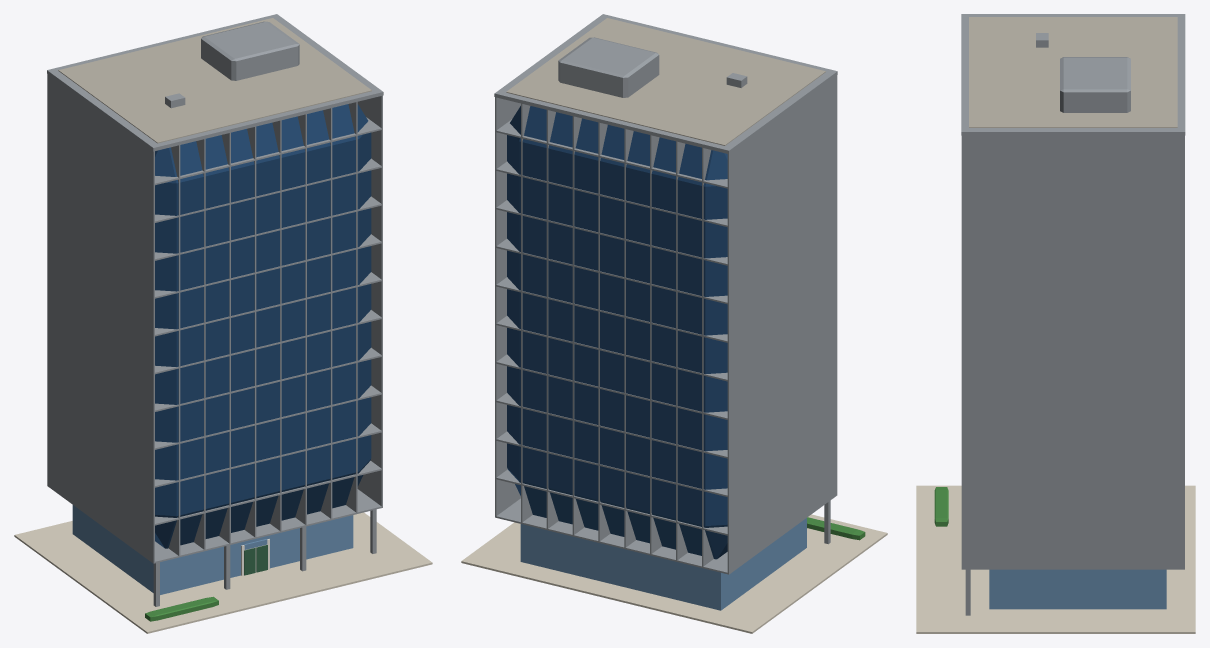
File: office_f12_ribbon_w24.glb
The picture shows the model from 3 angles, left to right: view 1: azimuth 30°, elevation 25°; view 2: azimuth 150°, elevation 25°; view 3: azimuth 270°, elevation 25°; orthographic projection. The views are drawn at different scales.
Visible parts, largest first — view 1: slab, mullv, roofslab, plaza, lobby, mullv.009, roofband, penthouse, mullh, mullv.004, mullv.007, mullv.001 (+16 smaller); view 2: slab, mullv, roofslab, plaza, lobby, mullv.009, roofband, penthouse, mullh, mullv.007, mullv.006, mullv.005 (+16 smaller); view 3: mullv.009, roofslab, plaza, lobby, roofband, penthouse, planter.
Boxes of the visible parts, x1,y1,x2,y2 form: slab: [155, 104, 371, 548]; mullv: [47, 70, 154, 563]; roofslab: [58, 18, 371, 143]; plaza: [14, 512, 432, 633]; lobby: [72, 505, 353, 594]; mullv.009: [276, 14, 382, 507]; roofband: [47, 14, 383, 151]; penthouse: [201, 21, 299, 80]; mullh: [153, 489, 381, 563]; mullv.004: [149, 45, 256, 538]; mullv.007: [227, 27, 332, 520]; mullv.001: [73, 64, 180, 555]; slab: [507, 106, 727, 559]; mullv: [727, 71, 837, 574]; roofslab: [506, 18, 825, 145]; plaza: [461, 514, 887, 633]; lobby: [520, 518, 806, 610]; mullv.009: [495, 17, 600, 516]; roofband: [494, 14, 837, 153]; penthouse: [558, 37, 659, 97]; mullh: [495, 498, 728, 574]; mullv.007: [546, 28, 653, 530]; mullv.006: [572, 33, 681, 536]; mullv.005: [598, 39, 706, 542]; mullv.009: [961, 131, 1184, 569]; roofslab: [969, 17, 1177, 127]; plaza: [916, 485, 1195, 633]; lobby: [989, 569, 1166, 609]; roofband: [961, 14, 1185, 135]; penthouse: [1060, 57, 1130, 112]; planter: [934, 487, 948, 526].
Size of the model in its own units: 30 by 48.78 by 24.2.
